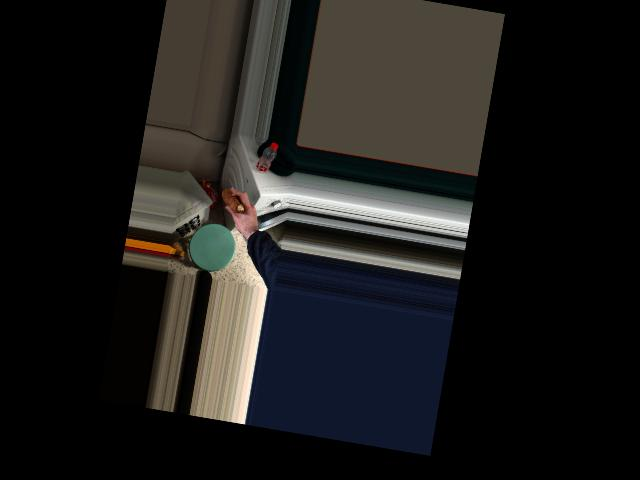sweet_potato: (219, 185, 250, 217)
